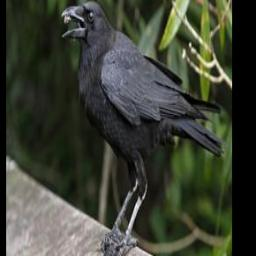Crow: (60, 0, 225, 256)
